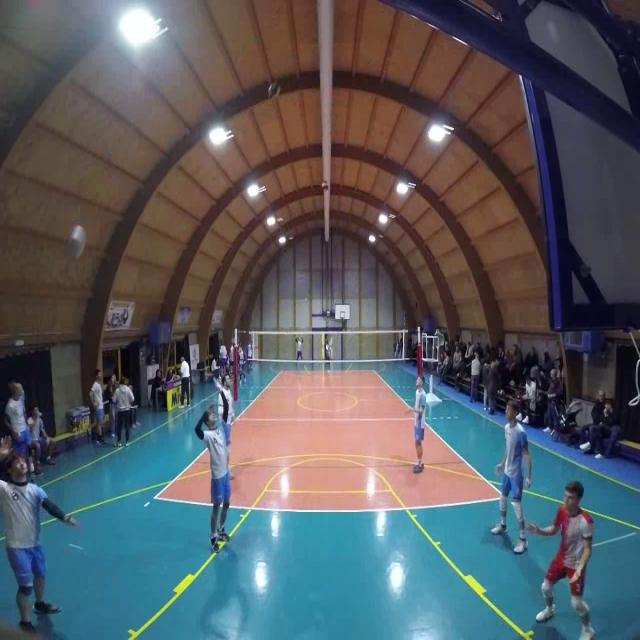Volleyball: (64, 226, 89, 263), (269, 81, 283, 102), (321, 180, 330, 194)
